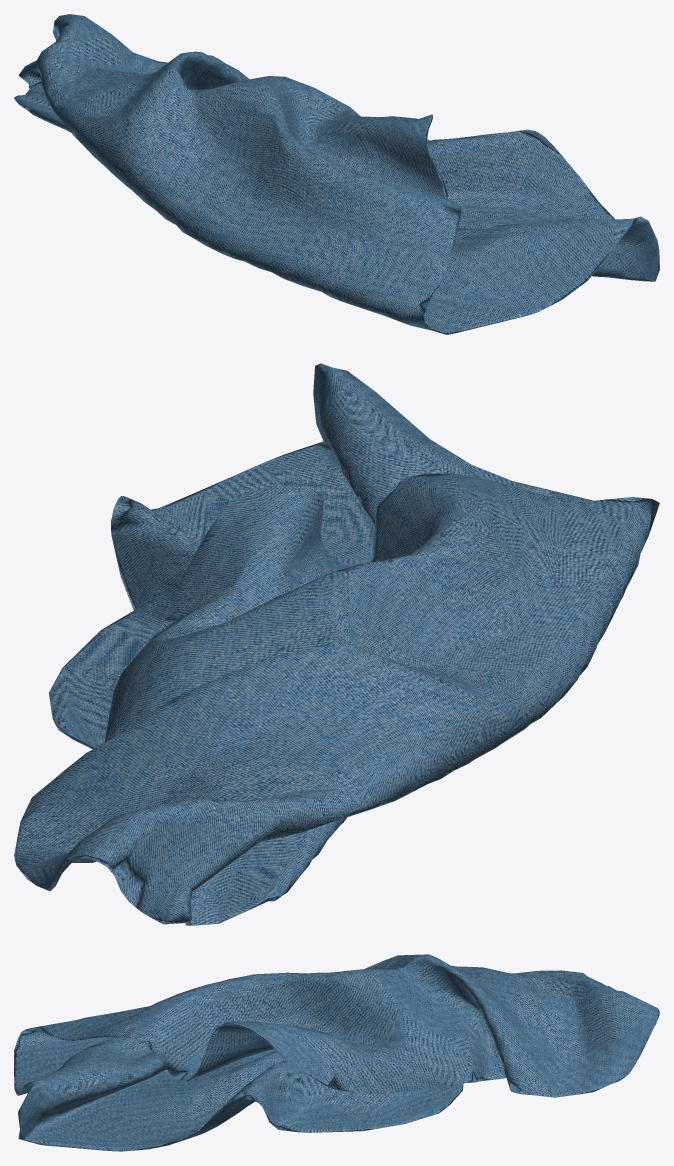
File: Cloth_Heap_3_Baked.glb
The picture shows the model from 3 angles, top to bottom: view 1: azimuth 30°, elevation 25°; view 2: azimuth 150°, elevation 25°; view 3: azimuth 270°, elevation 25°; orthographic projection. The views are drawn at different scales.
Parts seen in each view (by area): view 1: BakedClothPile-mid; view 2: BakedClothPile-mid; view 3: BakedClothPile-mid.
Part boxes in pixels (left/top/right/bottom): BakedClothPile-mid: left=14, top=14, right=659, bottom=334; BakedClothPile-mid: left=14, top=363, right=659, bottom=925; BakedClothPile-mid: left=14, top=954, right=659, bottom=1151.
Bounding box in the file's own units: 1.13 × 0.3193 × 2.1.
1 material, 1 textured.
